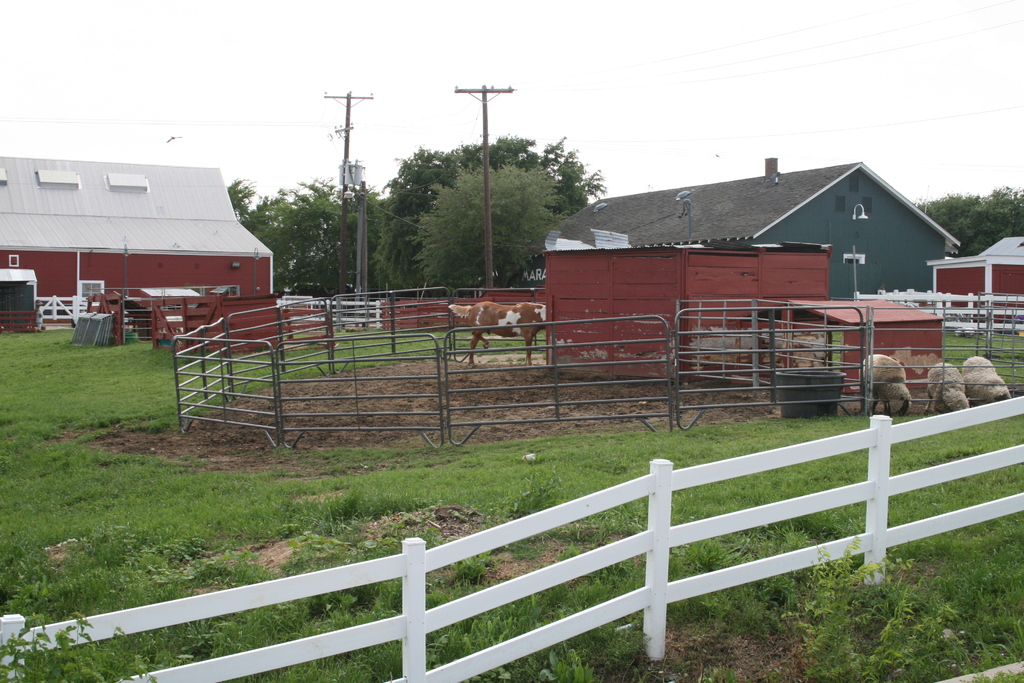Tree: (227, 132, 1024, 295)
